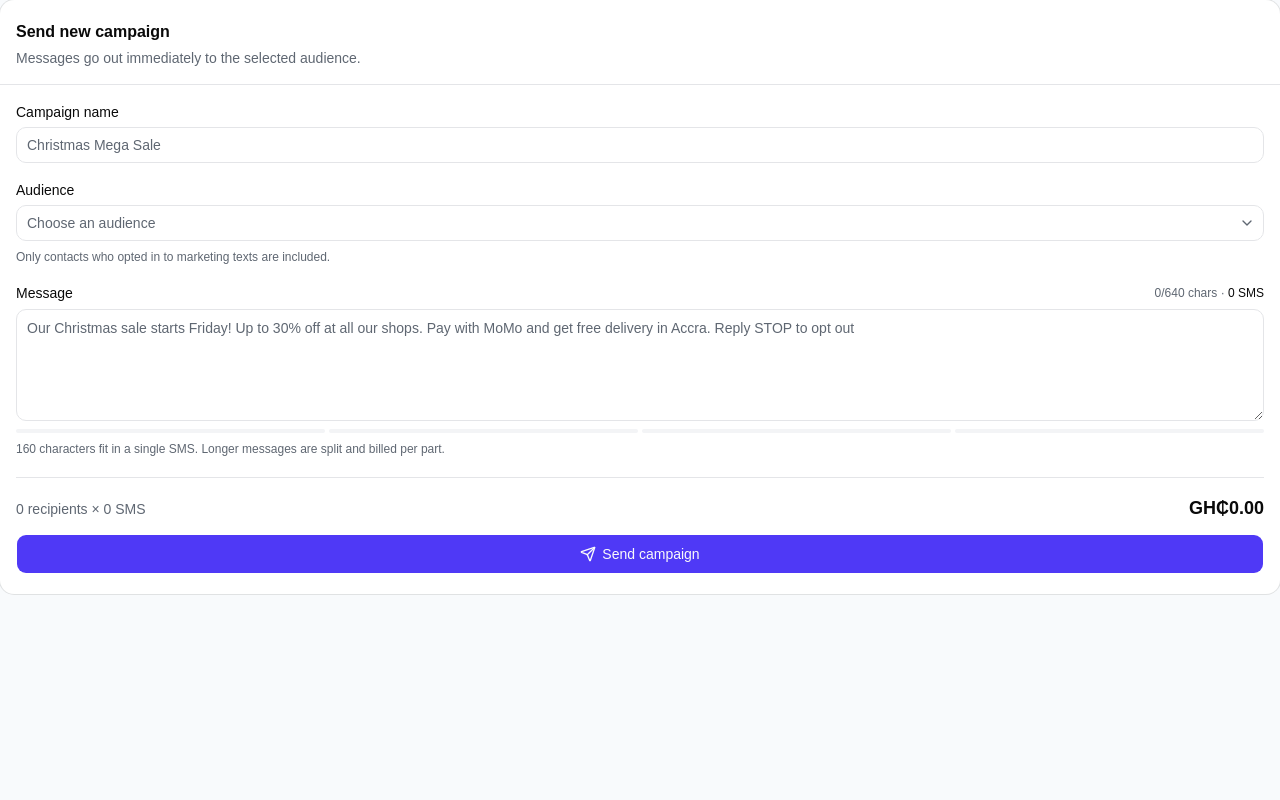
Test: CampaignForm › shows validation errors instead of sending an incomplete campaign
Step 1. Click the button "Send campaign" → (640, 554), box [16,534,1264,574]
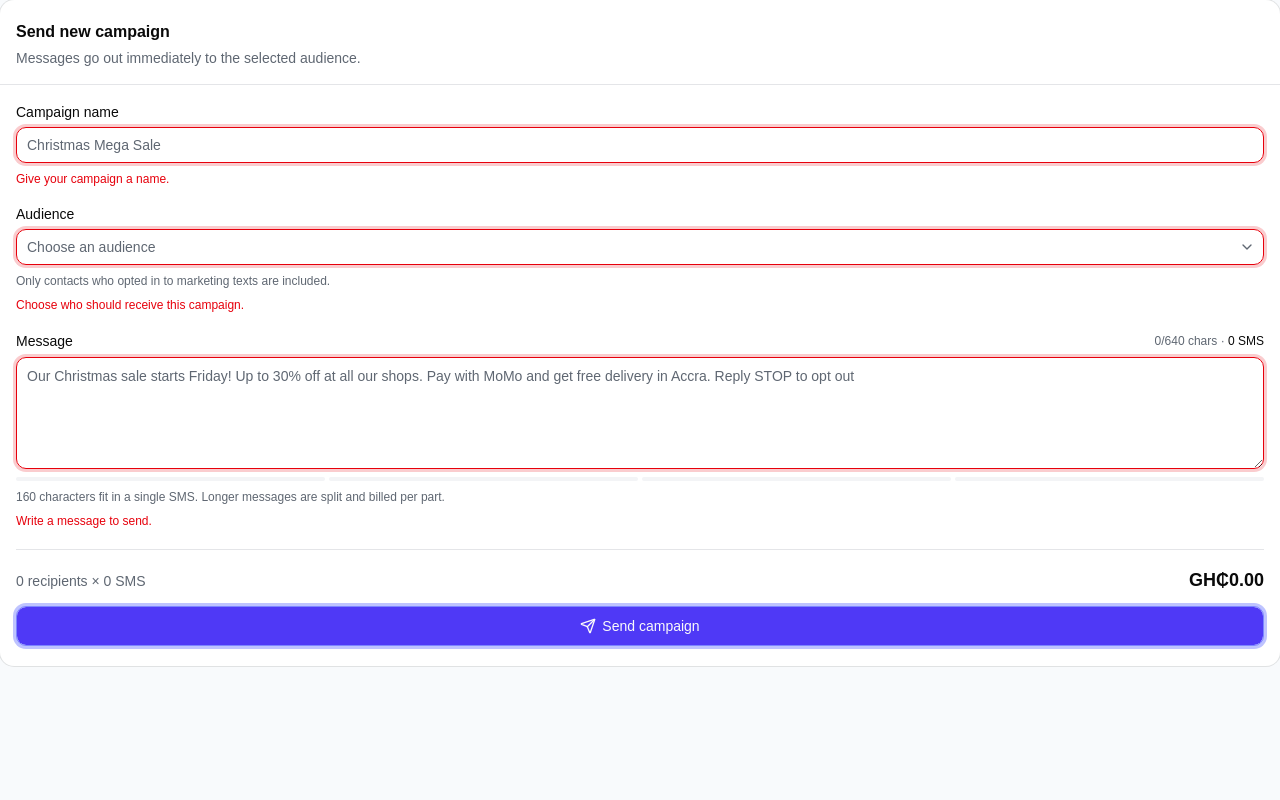
Expected: the text "Give your campaign a name." is shown, [16,172,169,186]
Expected: the text "Choose who should receive this campaign." is shown, [16,298,244,312]
Expected: the text "Write a message to send." is shown, [16,514,152,528]
